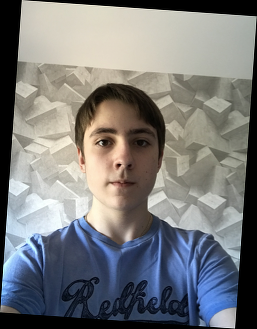without_mask: (84, 125, 161, 212)
